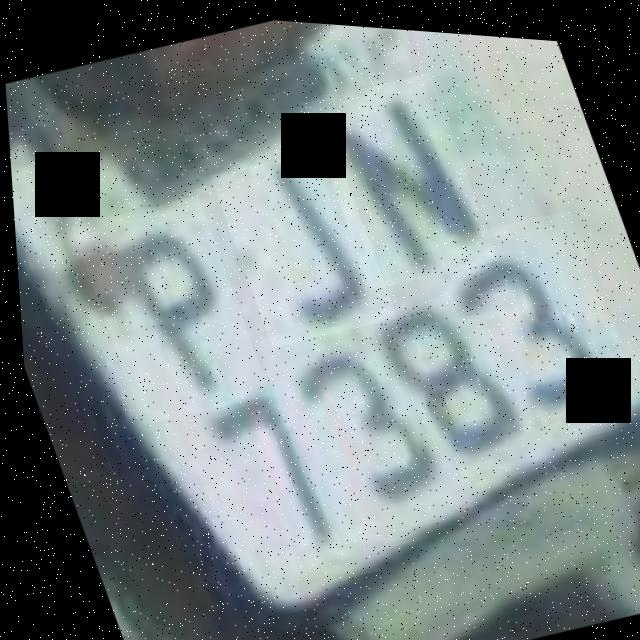3: (247, 289, 476, 551), (402, 190, 635, 437)
7: (163, 348, 371, 589)
8: (342, 252, 535, 480)
J: (206, 133, 395, 350)
N: (299, 58, 497, 292)
P: (65, 184, 267, 430)
